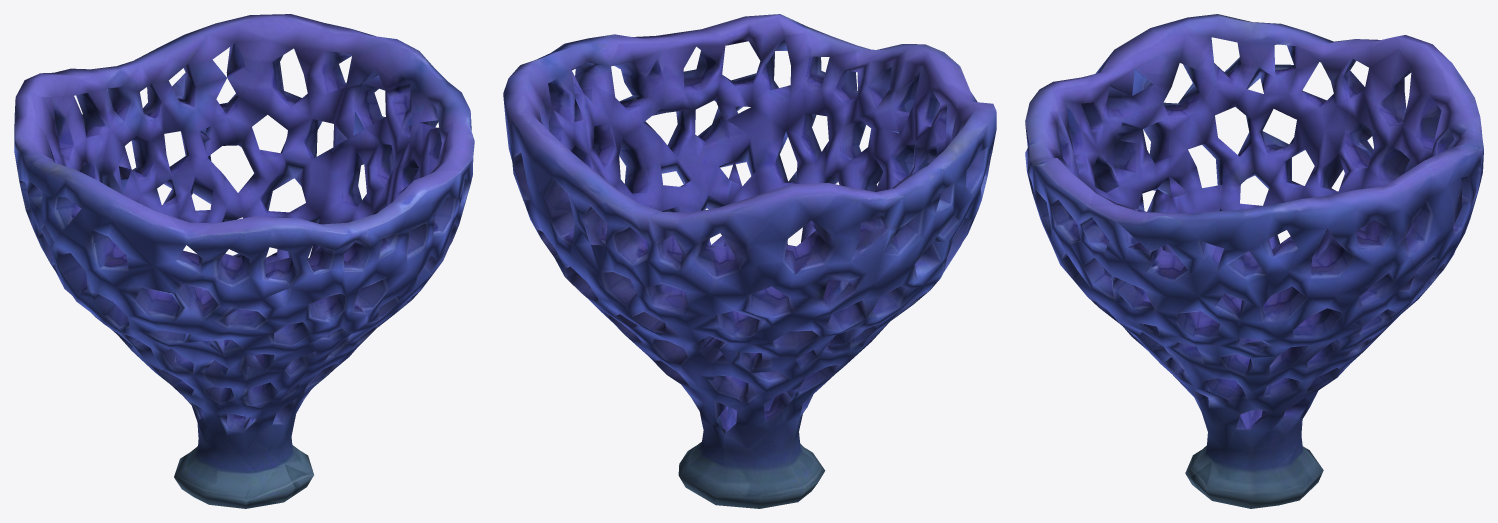
The model's file is Blue_Porous_Bowl.glb.
3 views of the same model, side by side, from view 1: azimuth 30°, elevation 25°; view 2: azimuth 150°, elevation 25°; view 3: azimuth 270°, elevation 25° (orthographic). The views are drawn at different scales.
Bounding box in the file's own units: 1 × 0.9199 × 0.9961.
Materials: 1 (1 with a texture image).
